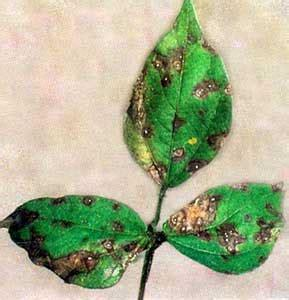black-spot: (151, 60, 214, 153)
